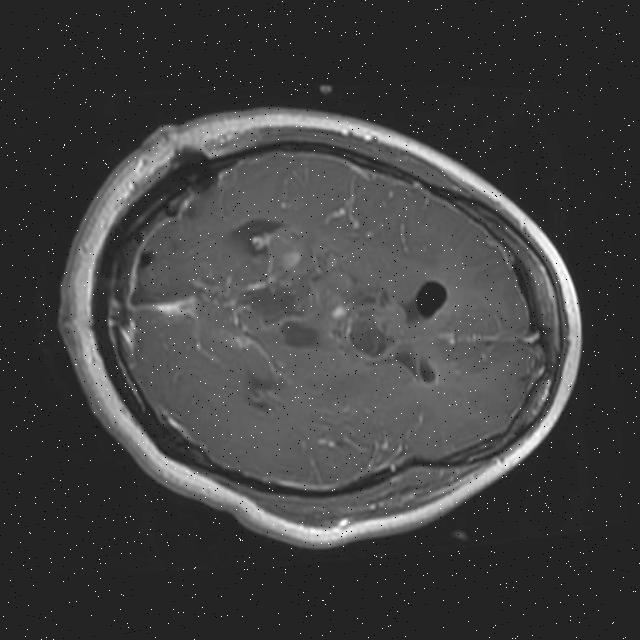Glioma: (328, 284, 410, 365), (249, 223, 327, 301)
